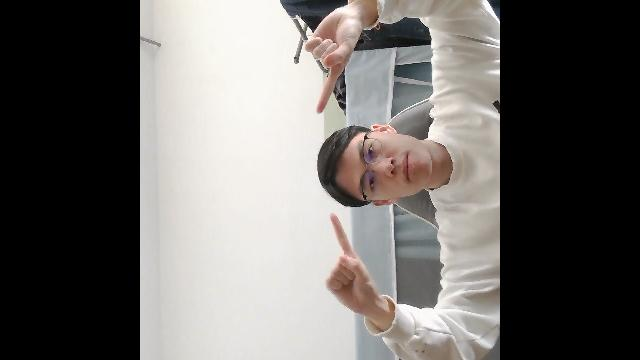one: (302, 2, 368, 115), (322, 214, 384, 322)
